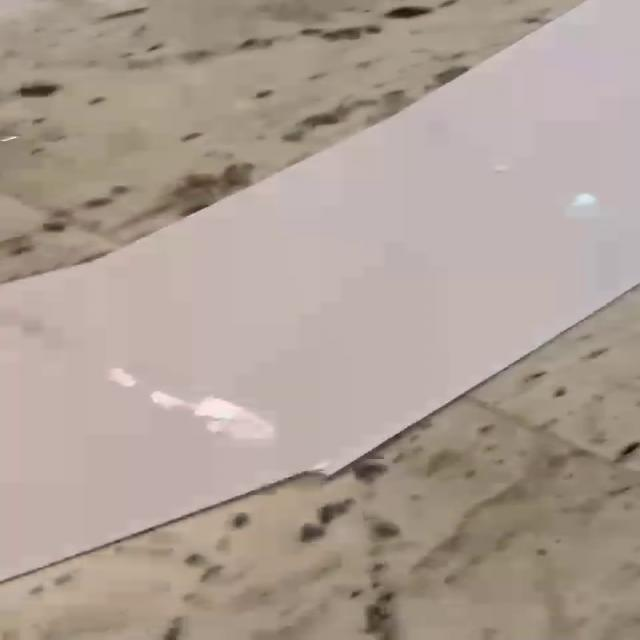road: (1, 0, 637, 577)
